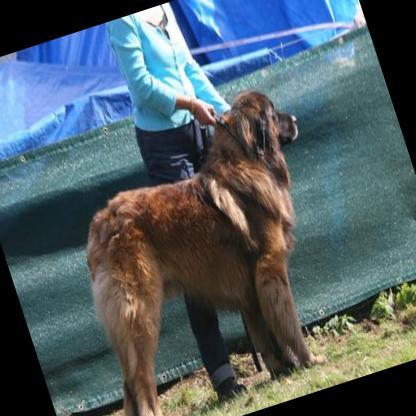Leonberg: (37, 78, 377, 416)
